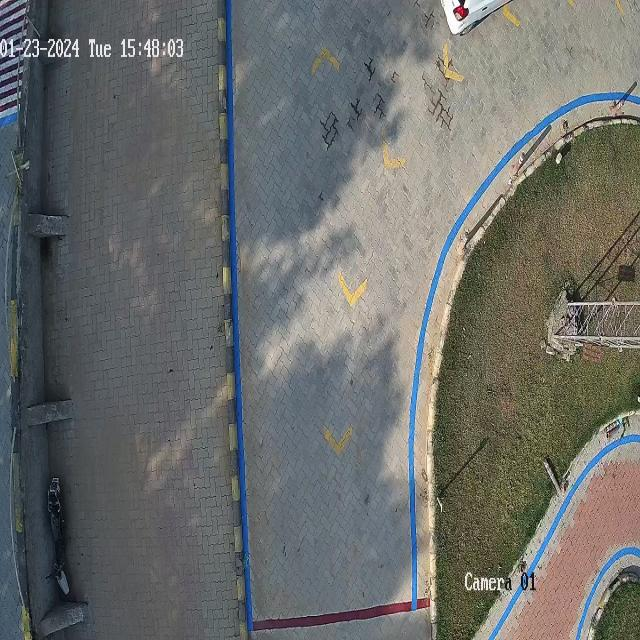car: (438, 0, 515, 36)
